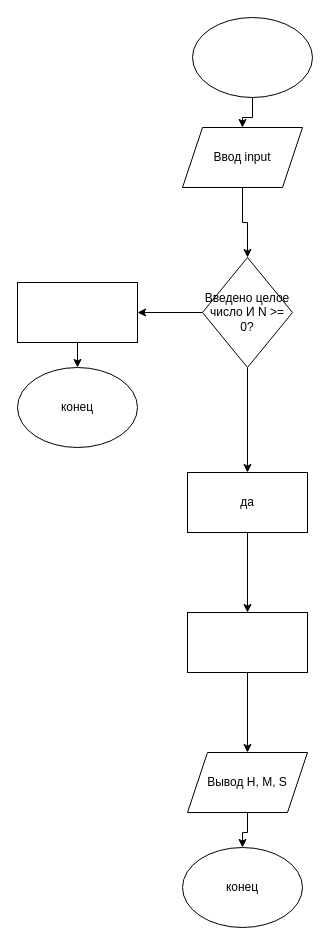
Some shapes in this 330 by 945 pixel diagram are drawn without their labels. Each missing label, with the centre of its shape:
"H = N / 3600 rem = N % 3600 M = rem / 60 S = rem % 60" belongs at [247,642].
"начало" belongs at [252,57].
"нет" belongs at [77,312].
